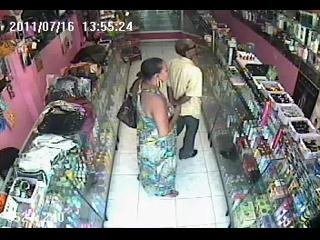Normal: (133, 57, 181, 199), (166, 38, 204, 160), (116, 77, 141, 128)
